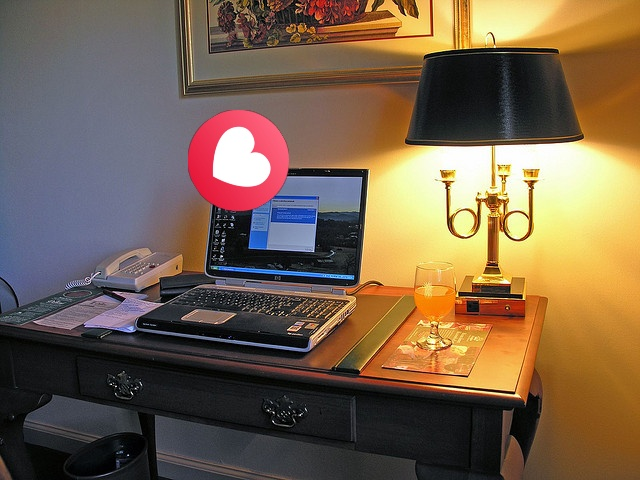love: (188, 110, 289, 211)
